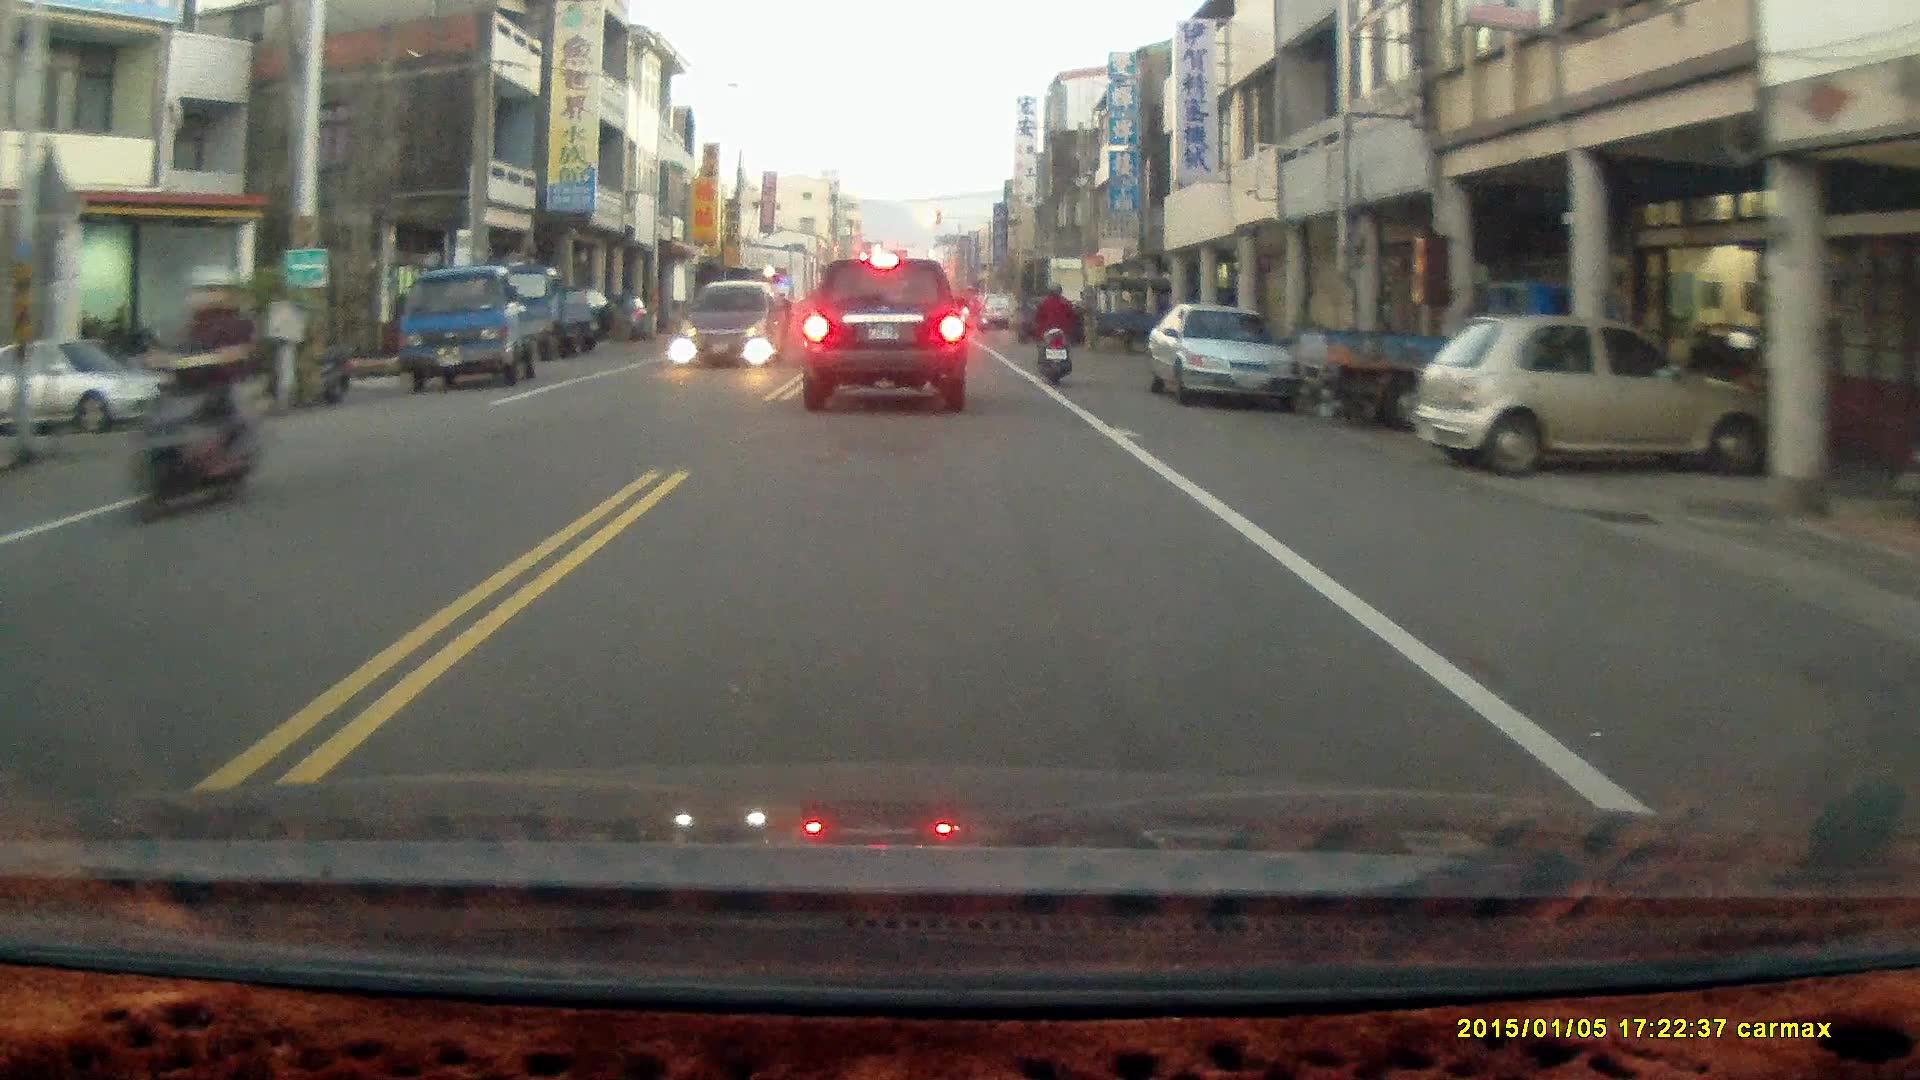rider: (115, 261, 286, 528), (1032, 279, 1074, 384)
vehicle: (1426, 313, 1759, 482), (796, 253, 971, 416), (399, 265, 562, 390), (1, 335, 204, 432), (1147, 305, 1308, 407), (679, 279, 785, 367)
